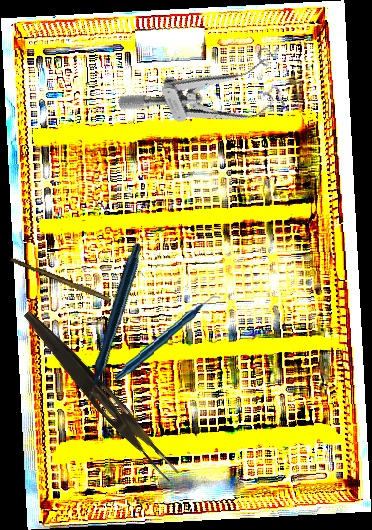Dressing Forceps: (14, 307, 186, 484)
Handpiece: (22, 241, 197, 407), (109, 295, 227, 382)
Scalpel Handle: (9, 256, 113, 303)
Speculum: (116, 31, 301, 167)
